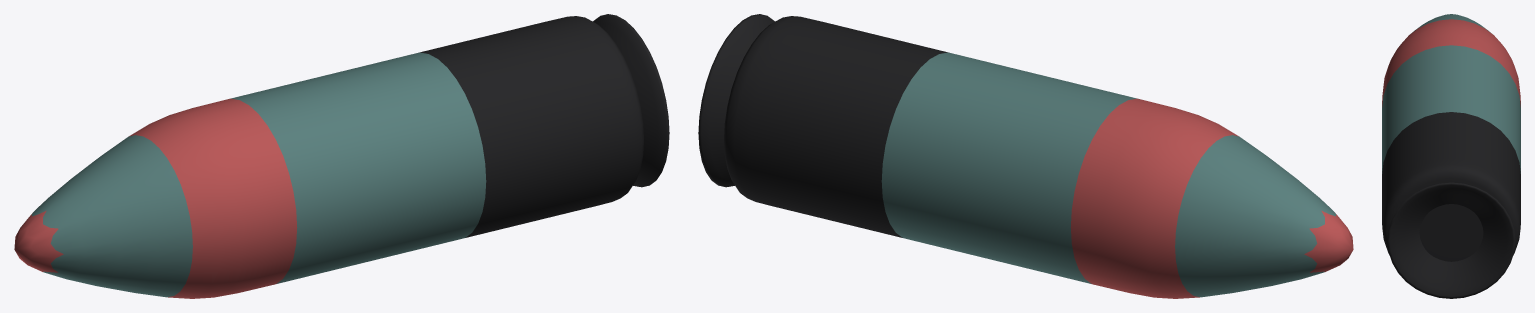
The model's file is Rocket.glb.
The picture shows the model from 3 angles, left to right: view 1: azimuth 30°, elevation 25°; view 2: azimuth 150°, elevation 25°; view 3: azimuth 270°, elevation 25°; orthographic projection. The views are drawn at different scales.
Parts seen in each view (by area): view 1: Cylinder.001; view 2: Cylinder.001; view 3: Cylinder.001.
Part boxes in pixels (x1=…): Cylinder.001: x1=14, y1=14, x2=669, y2=298; Cylinder.001: x1=698, y1=14, x2=1353, y2=298; Cylinder.001: x1=1382, y1=14, x2=1520, y2=298.
Bounding box in the file's own units: 0.1802 × 0.0491 × 0.0491.
1 material, 1 textured.
